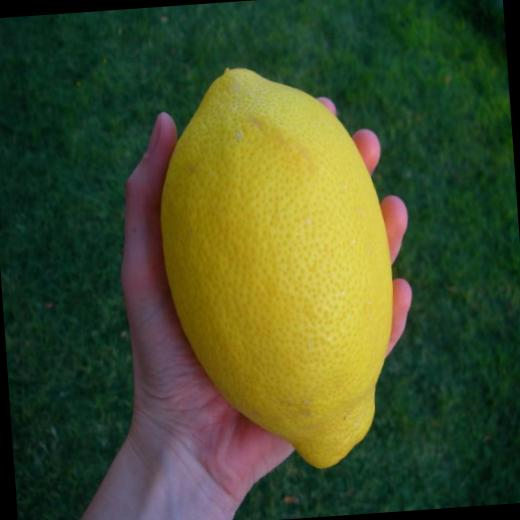Grape: (156, 56, 404, 481)
